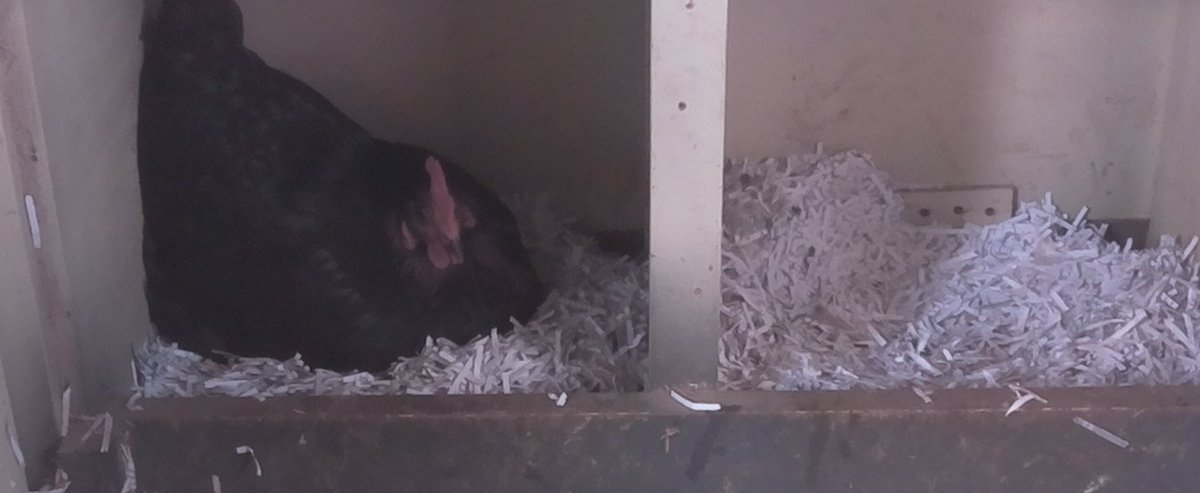hen: (136, 4, 546, 375)
